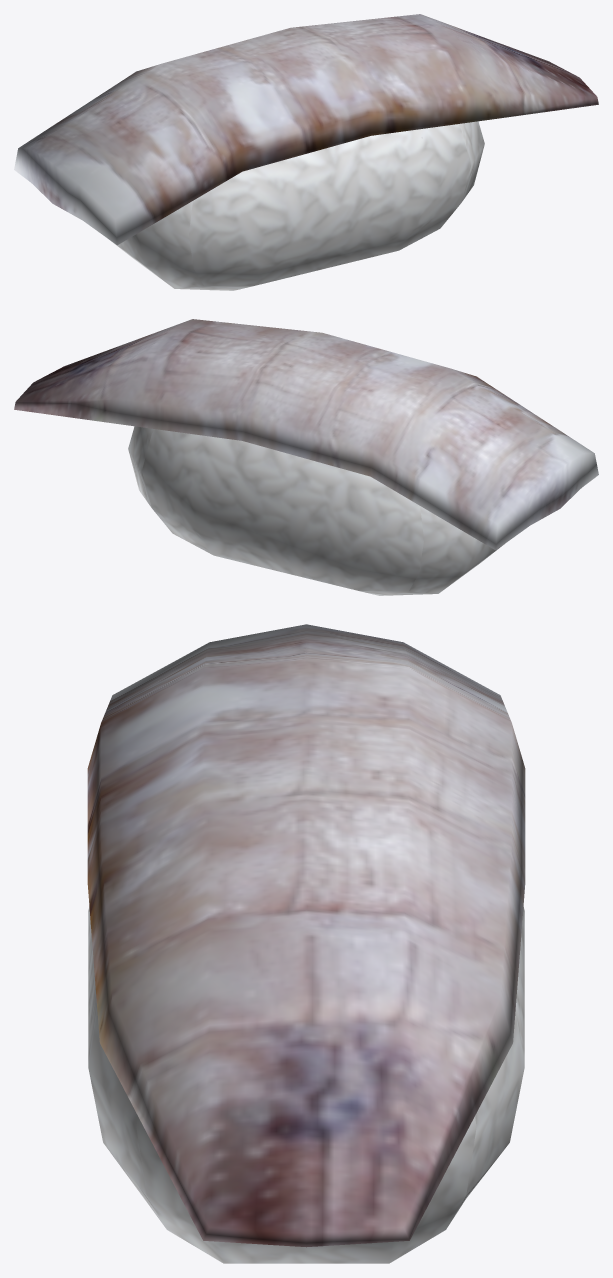
Rendered from mantisshimp.fbx.
3 views of the same model, one above another, from view 1: azimuth 30°, elevation 25°; view 2: azimuth 150°, elevation 25°; view 3: azimuth 270°, elevation 25° (orthographic). The views are drawn at different scales.
Visible parts, largest first — view 1: mantisshimp; view 2: mantisshimp; view 3: mantisshimp.
Boxes of the visible parts, bbox=[...] form: mantisshimp: bbox=[14, 14, 598, 290]; mantisshimp: bbox=[14, 319, 598, 595]; mantisshimp: bbox=[87, 624, 525, 1263].
Bounding box in the file's own units: 8.78 × 3.28 × 3.14.
